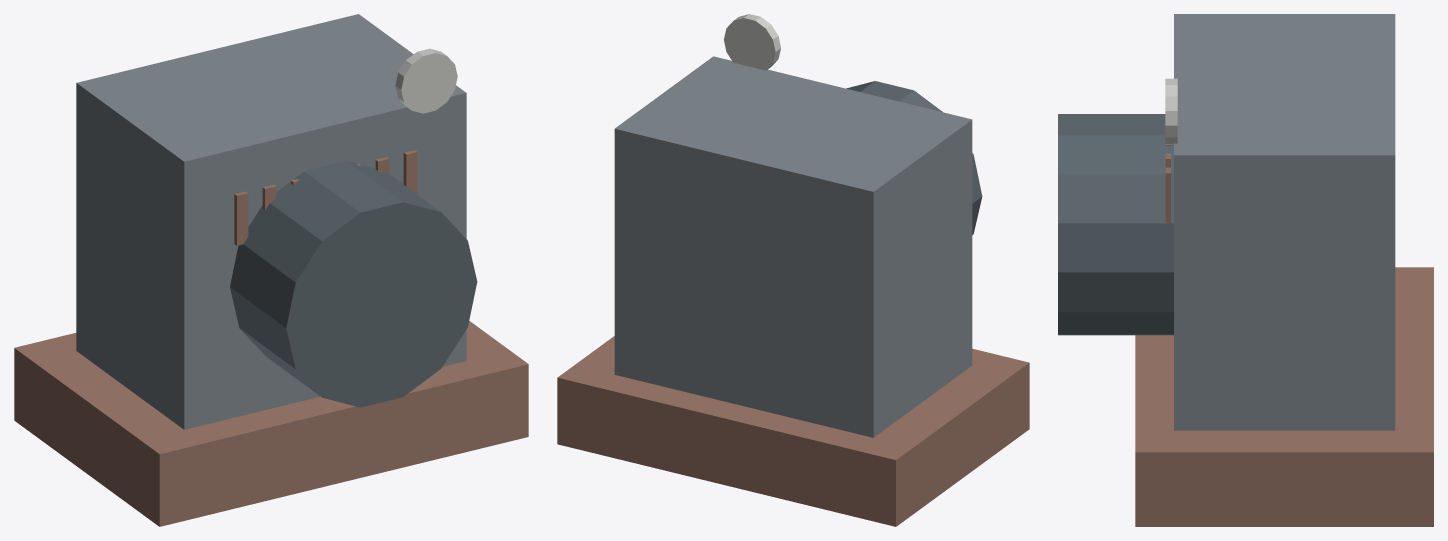
Rendered from BSM-001.glb.
The picture shows the model from 3 angles, left to right: view 1: azimuth 30°, elevation 25°; view 2: azimuth 150°, elevation 25°; view 3: azimuth 270°, elevation 25°; orthographic projection. The views are drawn at different scales.
Visible parts, largest first — view 1: 000_Motor_housing, 003_Machine_pedestal, 001_Rotor_barrel, 002_Gauge, 004_Motor_vent; view 2: 000_Motor_housing, 003_Machine_pedestal, 002_Gauge, 001_Rotor_barrel; view 3: 000_Motor_housing, 003_Machine_pedestal, 001_Rotor_barrel, 002_Gauge.
Boxes of the visible parts, x1=… form: 000_Motor_housing: x1=76, y1=14, x2=466, y2=429; 003_Machine_pedestal: x1=14, y1=321, x2=528, y2=526; 001_Rotor_barrel: x1=230, y1=161, x2=477, y2=407; 002_Gauge: x1=395, y1=48, x2=457, y2=113; 004_Motor_vent: x1=234, y1=191, x2=248, y2=245; 000_Motor_housing: x1=614, y1=56, x2=972, y2=437; 003_Machine_pedestal: x1=557, y1=336, x2=1029, y2=526; 002_Gauge: x1=724, y1=14, x2=780, y2=70; 001_Rotor_barrel: x1=846, y1=81, x2=982, y2=234; 000_Motor_housing: x1=1174, y1=14, x2=1395, y2=430; 003_Machine_pedestal: x1=1135, y1=267, x2=1433, y2=526; 001_Rotor_barrel: x1=1058, y1=114, x2=1173, y2=335; 002_Gauge: x1=1165, y1=78, x2=1177, y2=143.
Bounding box in the file's own units: 0.85 × 0.8634 × 0.73.
